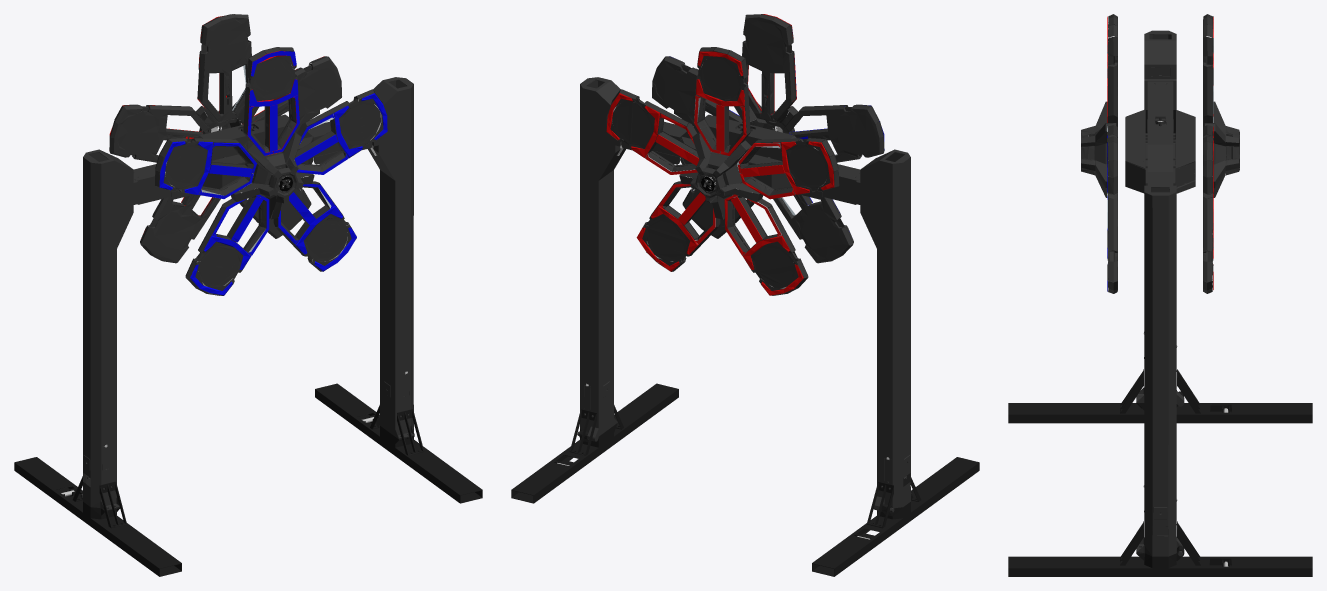
The model's file is rune-collision.glb.
3 renders of one model, left to right at view 1: azimuth 30°, elevation 25°; view 2: azimuth 150°, elevation 25°; view 3: azimuth 270°, elevation 25°, orthographic. The views are drawn at different scales.
Parts seen in each view (by area): view 1: static, face_1/blade_0, face_1/blade_3, face_1/blade_4, face_1/blade_1, face_0/blade_0, face_1/blade_2, face_0/blade_4, face_0/blade_3, face_1/hub, face_0/blade_1, face_0/blade_2; view 2: static, face_0/blade_3, face_0/blade_0, face_0/blade_4, face_0/blade_1, face_1/blade_0, face_0/blade_2, face_1/blade_4, face_1/blade_3, face_0/hub, face_1/blade_1, face_1/blade_2; view 3: static, face_1/hub, face_0/hub, face_1/blade_0, face_0/blade_0, face_1/blade_2, face_0/blade_2, face_0/blade_1, face_1/blade_1.
Boxes of the visible parts, x1=… form: static: x1=14, y1=77, x2=482, y2=576; face_1/blade_0: x1=243, y1=47, x2=299, y2=155; face_1/blade_3: x1=185, y1=194, x2=269, y2=295; face_1/blade_4: x1=155, y1=138, x2=256, y2=199; face_1/blade_1: x1=294, y1=89, x2=387, y2=174; face_0/blade_0: x1=197, y1=14, x2=251, y2=122; face_1/blade_2: x1=273, y1=181, x2=356, y2=271; face_0/blade_4: x1=109, y1=104, x2=210, y2=162; face_0/blade_3: x1=140, y1=194, x2=220, y2=263; face_1/hub: x1=231, y1=132, x2=314, y2=219; face_0/blade_1: x1=241, y1=56, x2=341, y2=125; face_0/blade_2: x1=233, y1=177, x2=311, y2=238; static: x1=511, y1=77, x2=979, y2=576; face_0/blade_3: x1=724, y1=194, x2=808, y2=295; face_0/blade_0: x1=694, y1=47, x2=750, y2=155; face_0/blade_4: x1=737, y1=138, x2=839, y2=199; face_0/blade_1: x1=606, y1=89, x2=699, y2=174; face_1/blade_0: x1=742, y1=14, x2=796, y2=122; face_0/blade_2: x1=636, y1=181, x2=720, y2=271; face_1/blade_4: x1=783, y1=104, x2=884, y2=162; face_1/blade_3: x1=773, y1=194, x2=853, y2=263; face_0/hub: x1=679, y1=132, x2=763, y2=219; face_1/blade_1: x1=652, y1=56, x2=752, y2=125; face_1/blade_2: x1=682, y1=178, x2=760, y2=238; static: x1=1008, y1=30, x2=1312, y2=576; face_1/hub: x1=1081, y1=101, x2=1116, y2=197; face_0/hub: x1=1204, y1=101, x2=1239, y2=197; face_1/blade_0: x1=1107, y1=14, x2=1117, y2=129; face_0/blade_0: x1=1203, y1=14, x2=1213, y2=127; face_1/blade_2: x1=1107, y1=191, x2=1117, y2=293; face_0/blade_2: x1=1203, y1=193, x2=1213, y2=293; face_0/blade_1: x1=1203, y1=125, x2=1213, y2=194; face_1/blade_1: x1=1107, y1=125, x2=1117, y2=194.
Size of the model in its own units: 2.45 by 3.26 by 1.9.
